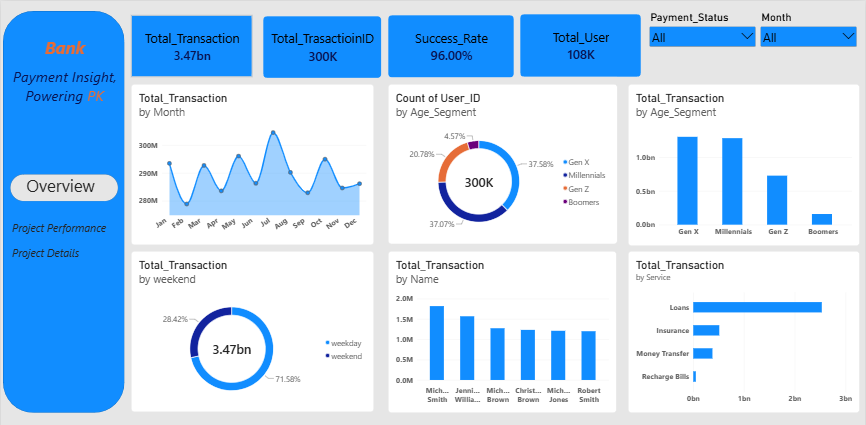

Layout of this report page (visuals, bound fields, positions):
{"tool":"powerbi","page":{"name":"Page 1","canvas":[1920,1080],"ordinal":0},"visuals":[{"type":"cardVisual","fields":{"Data":["Measure.total_Transaction"]},"box":[288.9,31.5,270.4,138.9],"z":2000},{"type":"cardVisual","fields":{"Data":["Measure.Total_TrasactioinID"]},"box":[582.7,32.7,263.5,138.5],"z":3000},{"type":"cardVisual","fields":{"Data":["Measure.Success_Rate"]},"box":[859.6,30.8,280.4,139.2],"z":4000},{"type":"cardVisual","fields":{"Data":["Measure.Total_User"]},"box":[1153.8,28.8,269.2,140.4],"z":5000},{"type":"slicer","fields":{"Values":["Data_Table.Month"]},"box":[1681.5,22.2,225.5,88.2],"z":6000},{"type":"lineChart","title":"Total_Transaction","fields":{"Category":["Data_Table.Month"],"Y":["Measure.total_Transaction"]},"box":[289.5,184.2,540.4,357.7],"z":7000},{"type":"barChart","title":"Total_Transaction","fields":{"Category":["All_Transactions.Service"],"Y":["Measure.total_Transaction"]},"box":[1392.6,555.6,515.4,359.6],"z":8000},{"type":"columnChart","fields":{"Category":["All_Users.Age_Segment"],"Y":["Measure.total_Transaction"]},"box":[1392.6,183.3,515.4,359.6],"z":9000},{"type":"donutChart","fields":{"Category":["All_Users.Age_Segment"],"Y":["CountNonNull(All_Transactions.User_ID)"]},"box":[859.3,183.3,509.6,355.8],"z":10000},{"type":"donutChart","fields":{"Category":["Data_Table.weekend"],"Y":["Measure.total_Transaction"]},"box":[288.9,555.6,540.4,357.7],"z":11000},{"type":"columnChart","title":"Total_Transaction","fields":{"Category":["All_Users.Name"],"Y":["Measure.total_Transaction"]},"box":[859.3,555.6,507.7,359.6],"z":12000},{"type":"slicer","fields":{"Values":["All_Transactions.Payment_Status"]},"box":[1435.2,22.2,247.1,88.2],"z":13000},{"type":"shape","box":[4.3,21.3,270,892.9],"z":14000},{"type":"textbox","box":[5.6,57.4,270.4,192.6],"z":15000},{"type":"shape","box":[20.4,383.3,240.7,61.1],"z":15250},{"type":"textbox","box":[37,383.3,188.9,64.8],"z":16000},{"type":"textbox","box":[25.5,486.9,221.1,44.6],"z":16001},{"type":"textbox","box":[25.5,542.1,161.6,34],"z":16002}]}

Visuals, with their boxes on the page's 1920x1080 design canvas (x1, y1, x2, y2). These are canvas units, not pixel positions in the 866x425 screenshot, which may show the page scaled, cropped or inside an application window:
cardVisual - Measure.total_Transaction: {"x1": 289, "y1": 32, "x2": 559, "y2": 170}
cardVisual - Measure.Total_TrasactioinID: {"x1": 583, "y1": 33, "x2": 846, "y2": 171}
cardVisual - Measure.Success_Rate: {"x1": 860, "y1": 31, "x2": 1140, "y2": 170}
cardVisual - Measure.Total_User: {"x1": 1154, "y1": 29, "x2": 1423, "y2": 169}
slicer - Data_Table.Month: {"x1": 1682, "y1": 22, "x2": 1907, "y2": 110}
"Total_Transaction" lineChart: {"x1": 290, "y1": 184, "x2": 830, "y2": 542}
"Total_Transaction" barChart: {"x1": 1393, "y1": 556, "x2": 1908, "y2": 915}
columnChart - All_Users.Age_Segment x Measure.total_Transaction: {"x1": 1393, "y1": 183, "x2": 1908, "y2": 543}
donutChart - All_Users.Age_Segment x CountNonNull(All_Transactions.User_ID): {"x1": 859, "y1": 183, "x2": 1369, "y2": 539}
donutChart - Data_Table.weekend x Measure.total_Transaction: {"x1": 289, "y1": 556, "x2": 829, "y2": 913}
"Total_Transaction" columnChart: {"x1": 859, "y1": 556, "x2": 1367, "y2": 915}
slicer - All_Transactions.Payment_Status: {"x1": 1435, "y1": 22, "x2": 1682, "y2": 110}
shape: {"x1": 4, "y1": 21, "x2": 274, "y2": 914}
textbox: {"x1": 6, "y1": 57, "x2": 276, "y2": 250}
shape: {"x1": 20, "y1": 383, "x2": 261, "y2": 444}
textbox: {"x1": 37, "y1": 383, "x2": 226, "y2": 448}
textbox: {"x1": 26, "y1": 487, "x2": 247, "y2": 532}
textbox: {"x1": 26, "y1": 542, "x2": 187, "y2": 576}
